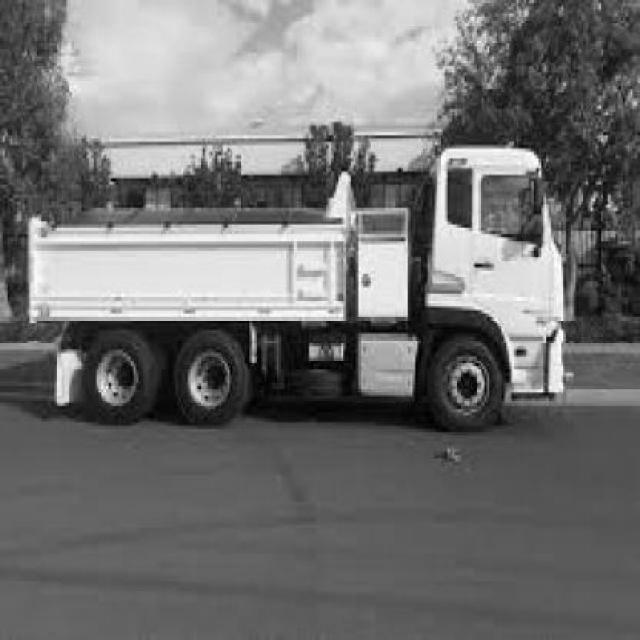Truck- Multi-Axle: (28, 147, 566, 433)
